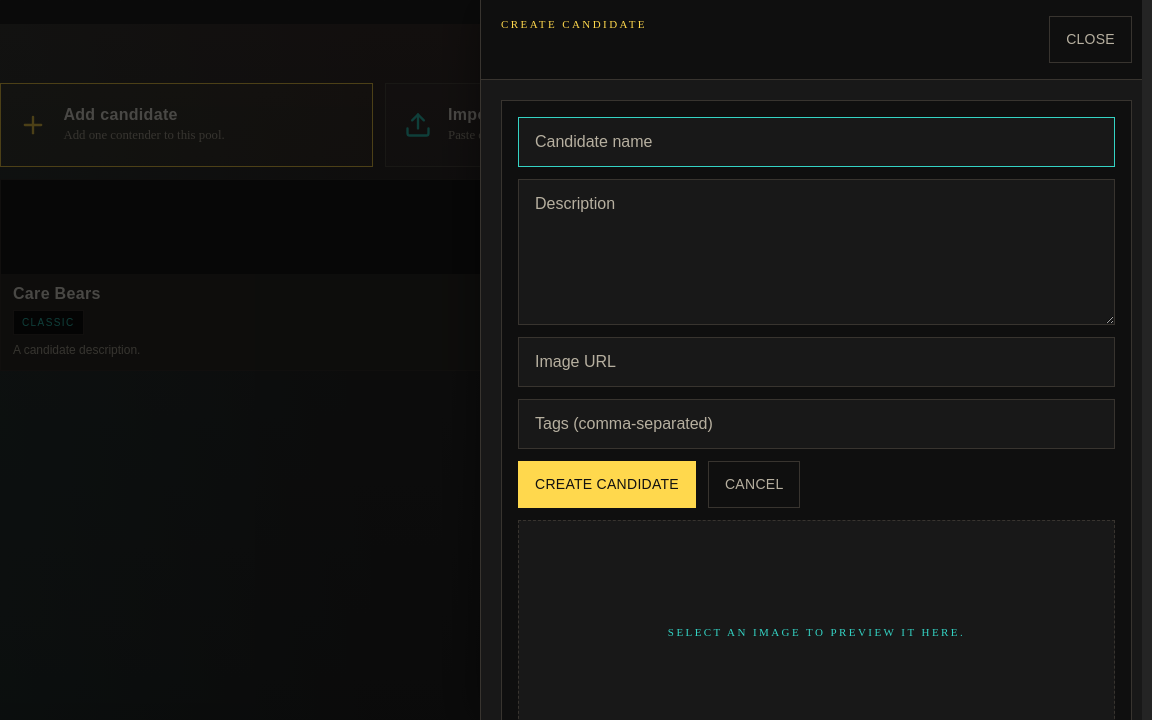
CandidateManagerPanel › keeps a blank candidate from submitting and focuses its name field
Click the button "Create Candidate". click: (607, 484)
box: [518,461,696,508]
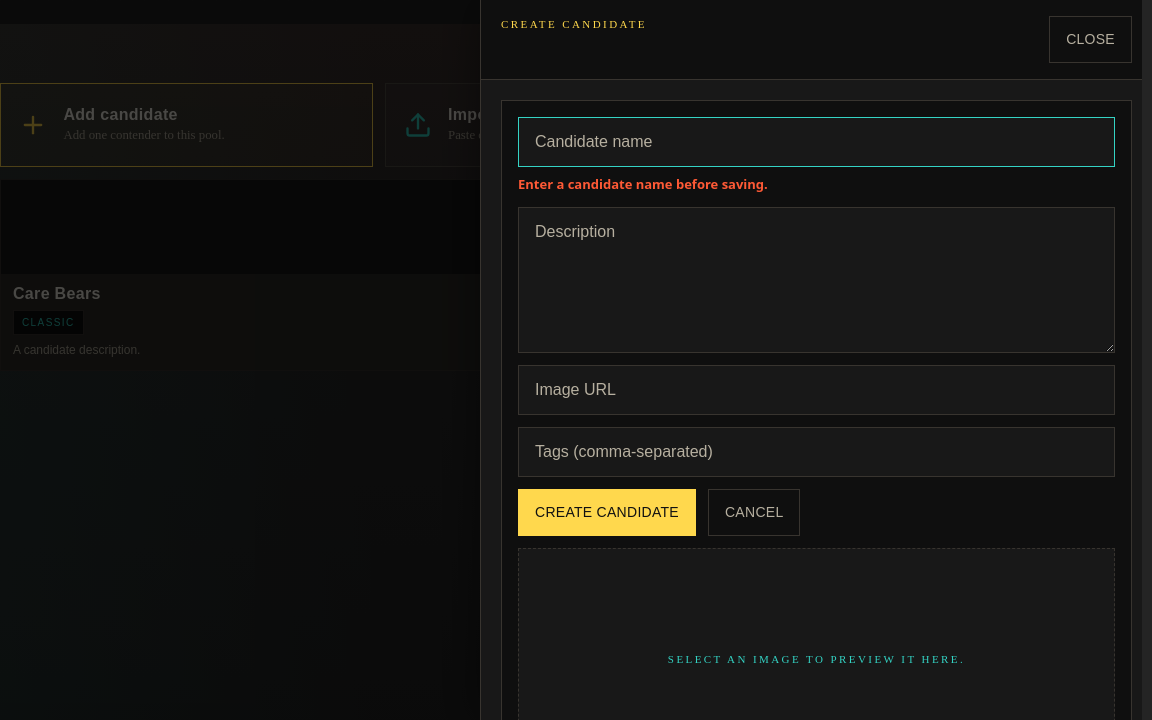
Result: the message reads "Enter a candidate name before saving." at [518,175,768,193]
